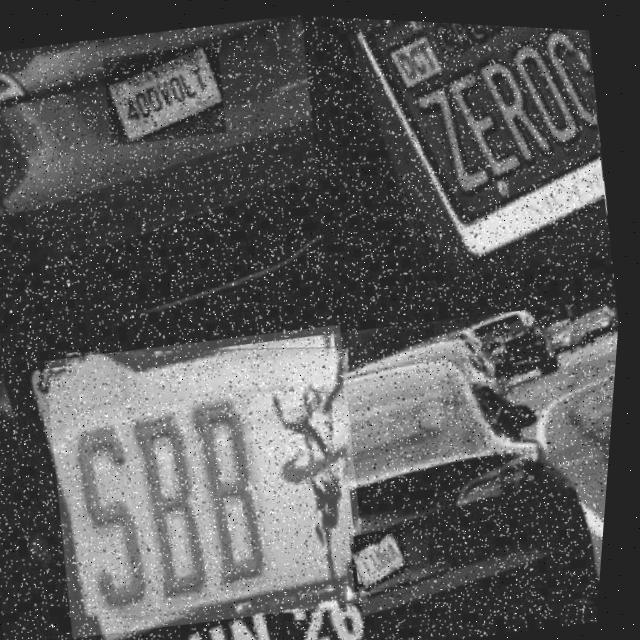LicensePlate: (34, 308, 392, 640), (343, 15, 629, 292), (107, 43, 225, 142), (359, 526, 417, 586)
